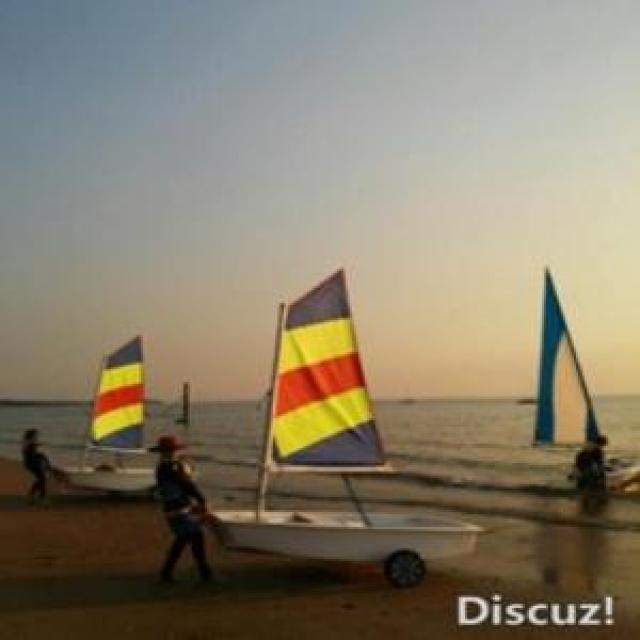sailboat: (206, 287, 478, 572), (27, 308, 186, 494), (522, 261, 635, 484)
